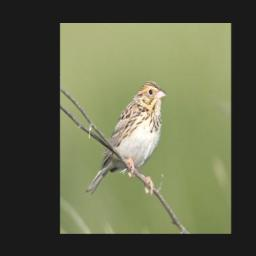Sparrow: (85, 79, 166, 194)
